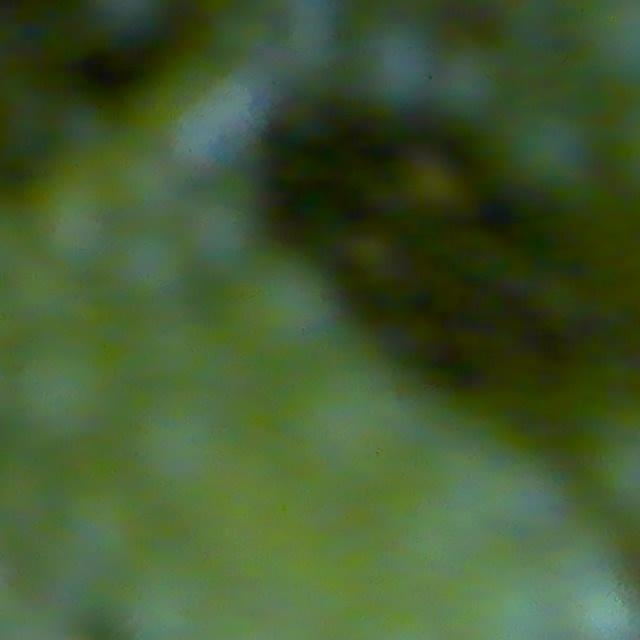SeaGrape: (225, 249, 345, 368), (6, 330, 123, 447), (28, 167, 120, 274), (501, 104, 598, 197), (353, 16, 440, 110), (110, 224, 194, 306), (179, 190, 262, 271), (431, 42, 509, 123), (563, 578, 640, 640), (399, 154, 468, 220)
